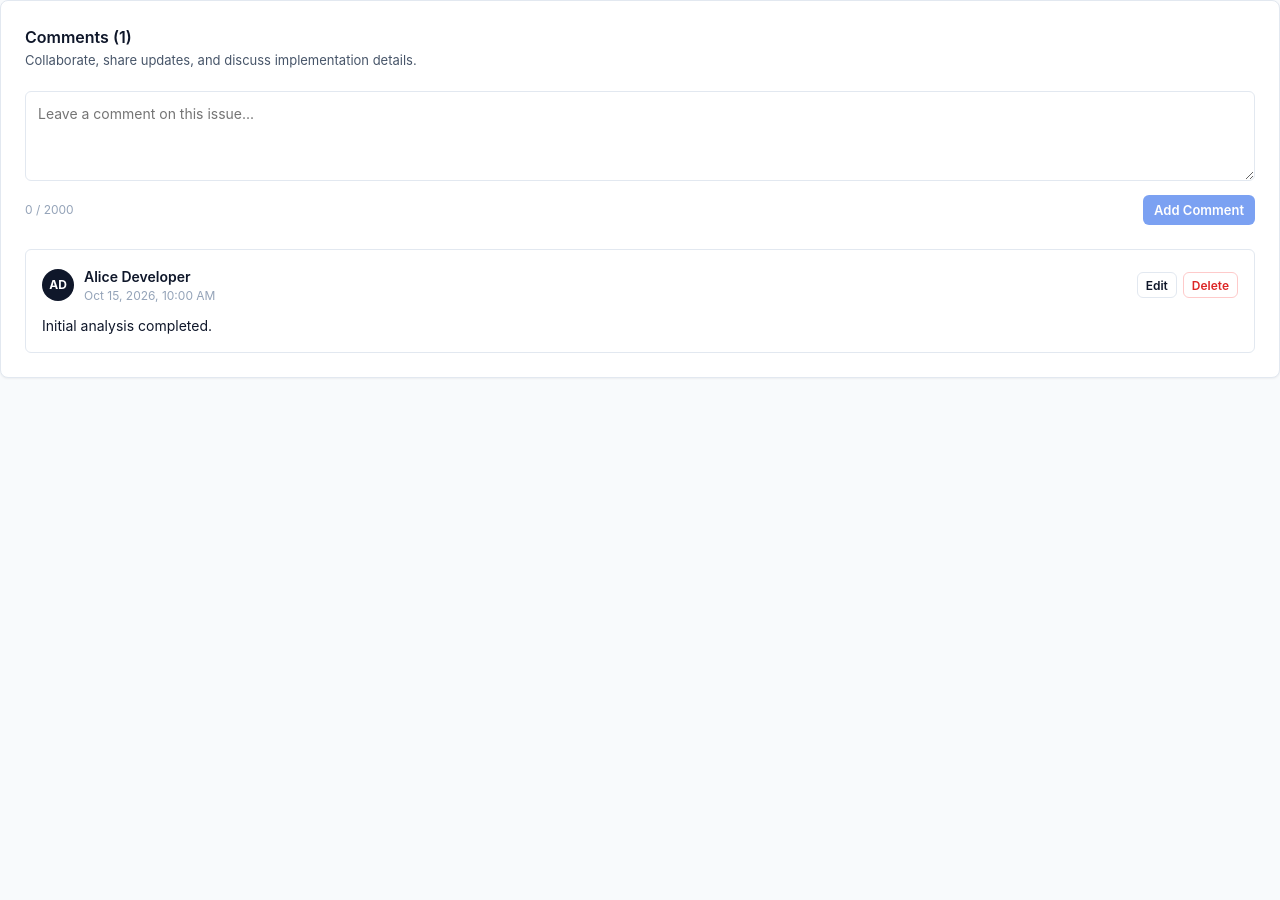
Test case: IssueComments Component › allows author to delete comment with confirmation modal
Expected: the text "Initial analysis completed." is shown, [42, 316, 212, 334]
Click the button with aria-label "Delete comment by Alice Developer". click: (1210, 285)
box: [1183, 272, 1238, 298]
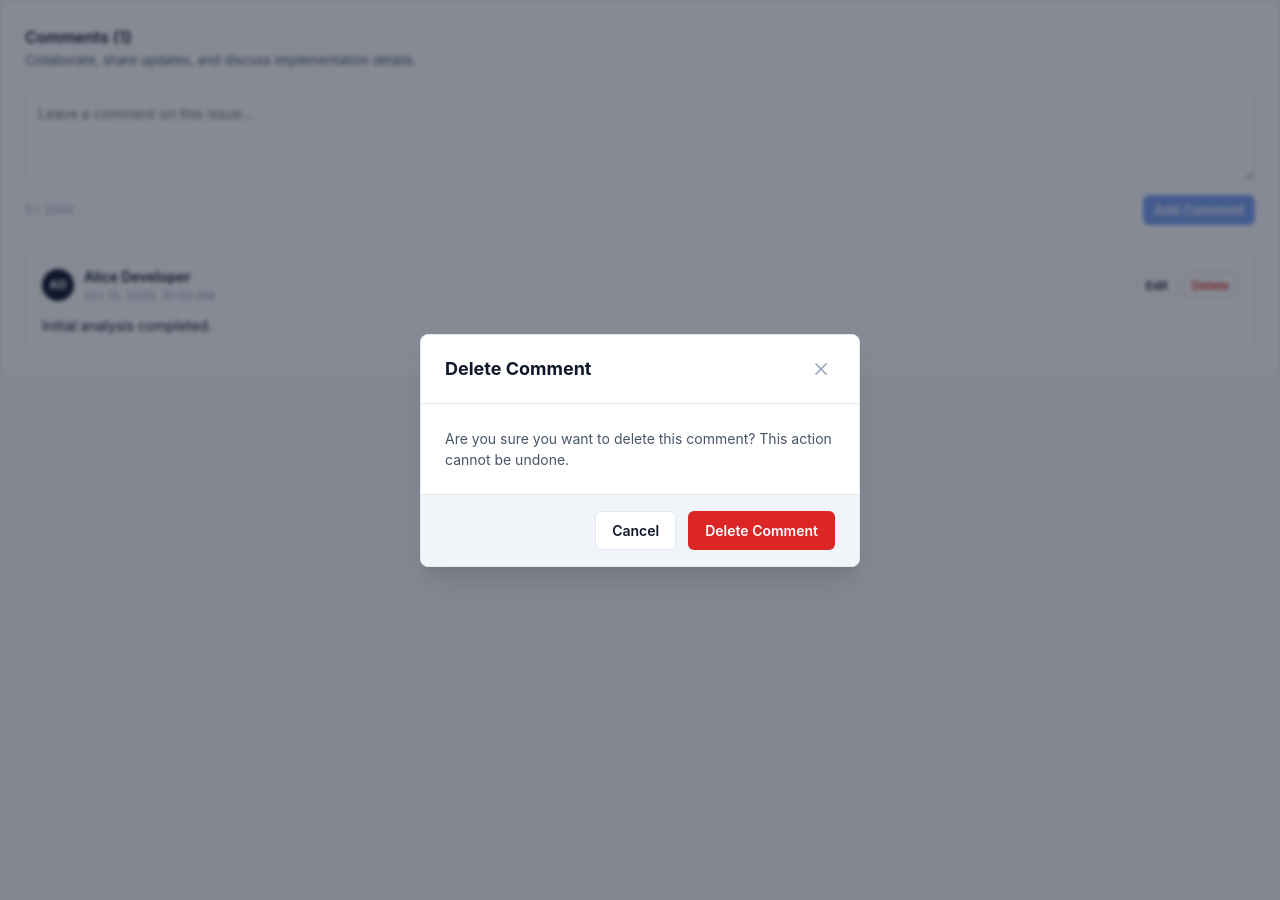
Expected: the heading "Delete Comment" is shown, [445, 355, 592, 382]
Expected: the text "Are you sure you want to delete this comment? This action cannot be undone." is shown, [445, 428, 835, 470]
Click the button "Delete Comment". click: (762, 530)
box: [688, 510, 835, 550]
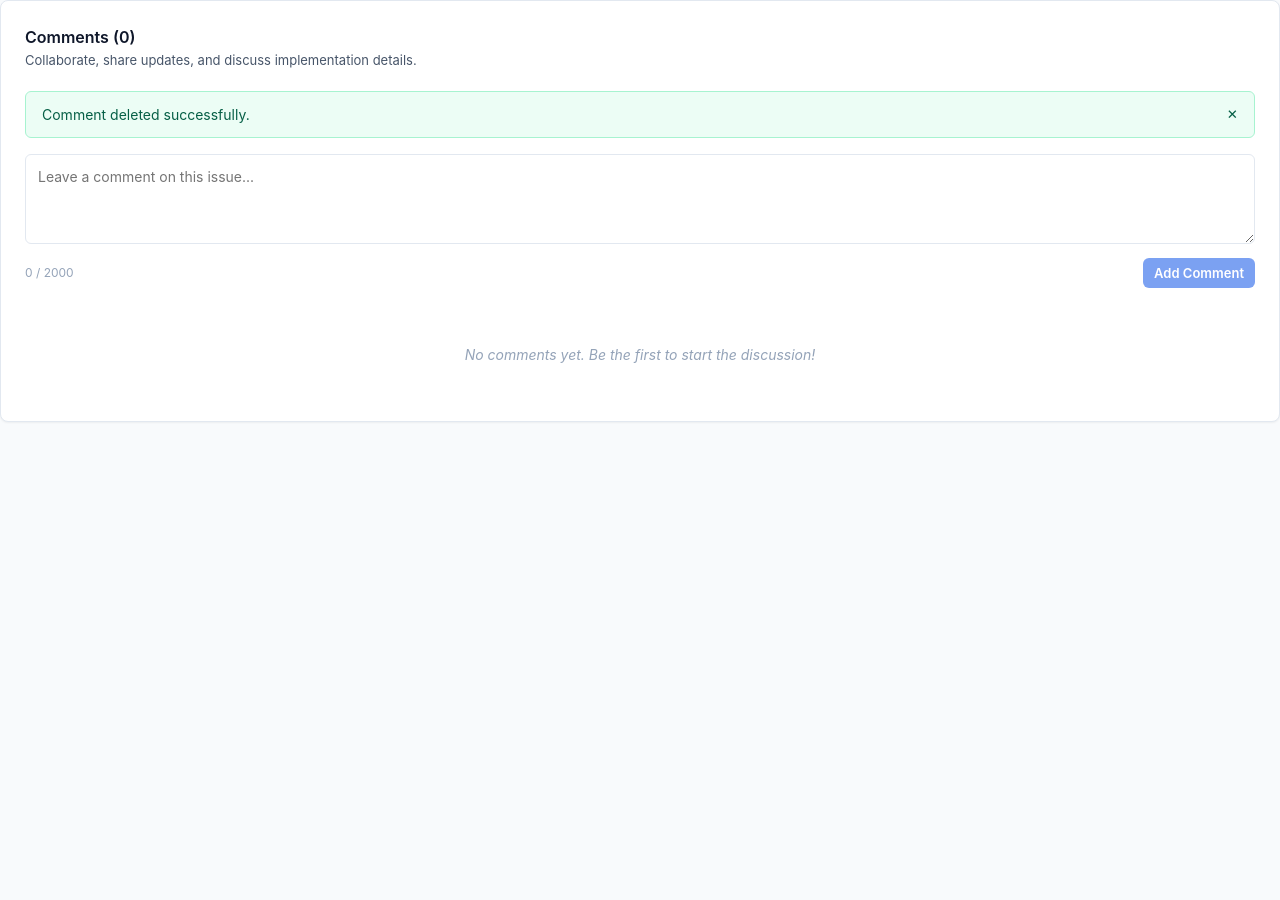
Expected: the text "Comment deleted successfully." is shown, [42, 104, 250, 124]
Expected: the text "Initial analysis completed." is gone
Expected: the text "No comments yet. Be the first to start the discussion!" is shown, [465, 344, 815, 364]
